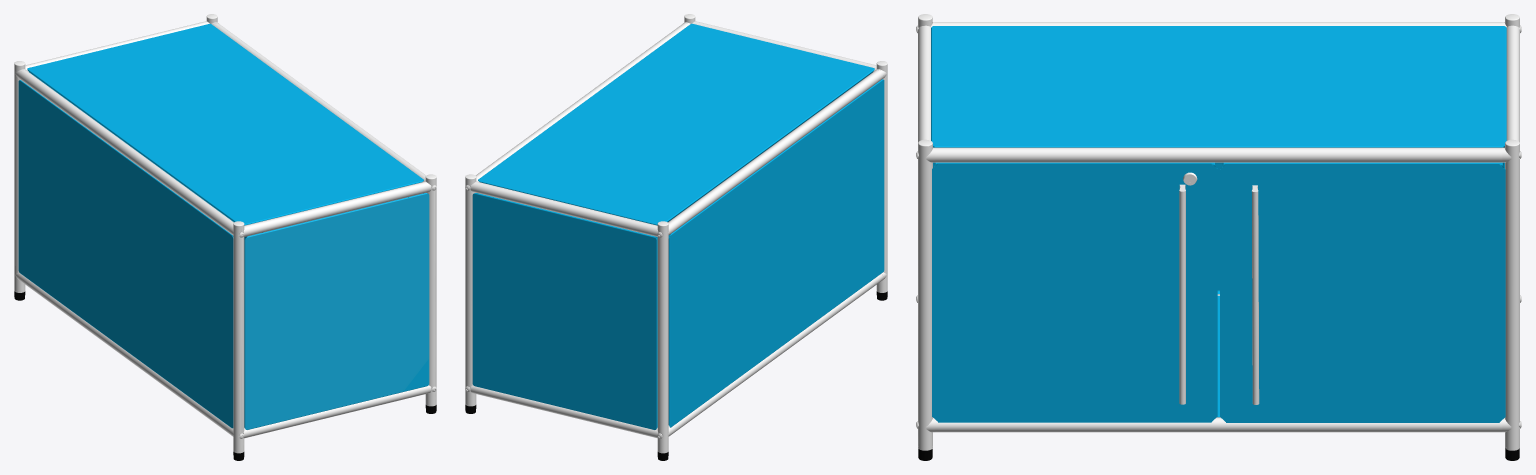
Rendered from 80x40x40-1-7-blue_optimized_optimized.glb.
3 renders of one model, left to right at view 1: azimuth 30°, elevation 25°; view 2: azimuth 150°, elevation 25°; view 3: azimuth 270°, elevation 25°, orthographic. The views are drawn at different scales.
Visible parts, largest first — view 1: 直角鐵板-80x40-5 - 零件, new-上塞-1 - 零件; view 2: 直角鐵板-80x40-5 - 零件, new-上塞-1 - 零件; view 3: 直角鐵板-80x40-5 - 零件, new-上塞-1 - 零件.
Boxes of the visible parts, x1,y1,x2,y2 form: 直角鐵板-80x40-5 - 零件: [18, 23, 429, 429]; new-上塞-1 - 零件: [14, 14, 436, 453]; 直角鐵板-80x40-5 - 零件: [472, 23, 884, 429]; new-上塞-1 - 零件: [465, 14, 887, 453]; 直角鐵板-80x40-5 - 零件: [931, 26, 1506, 422]; new-上塞-1 - 零件: [916, 14, 1521, 450].
Size of the model in its own units: 0.4203 by 0.4453 by 0.7732.
